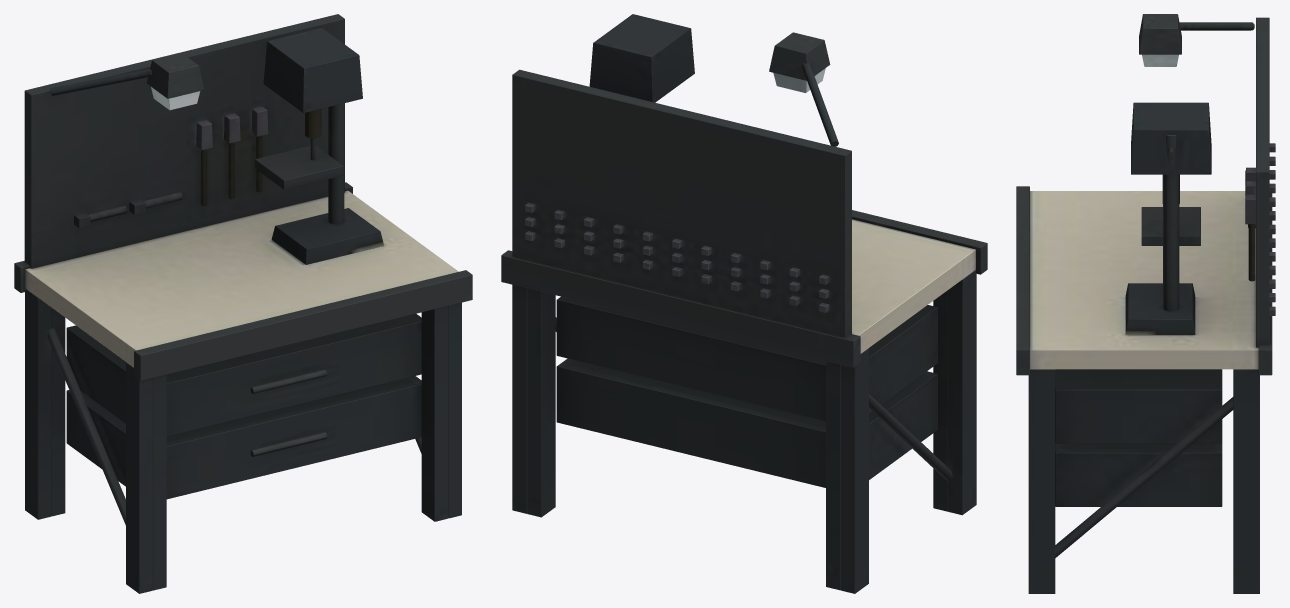
Rendered from DD_workbench2_L37.glb.
3 renders of one model, left to right at view 1: azimuth 30°, elevation 25°; view 2: azimuth 150°, elevation 25°; view 3: azimuth 270°, elevation 25°, orthographic. The views are drawn at different scales.
Visible parts, largest first — view 1: DD_workbench2_L37; view 2: DD_workbench2_L37; view 3: DD_workbench2_L37.
Boxes of the visible parts, x1,y1,x2,y2 form: DD_workbench2_L37: (14, 14, 472, 593); DD_workbench2_L37: (501, 14, 987, 593); DD_workbench2_L37: (1016, 14, 1275, 593).
Size of the model in its own units: 1.44 by 1.9 by 0.9625.
Materials: 1 (1 with a texture image).
